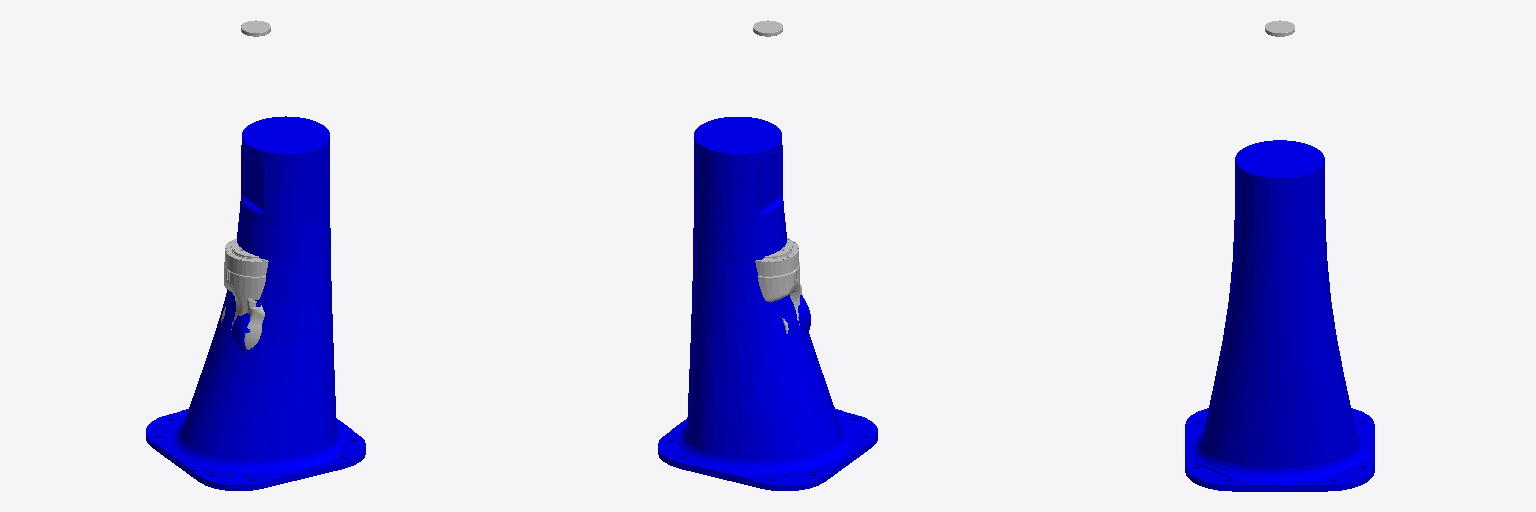
robot.urdf — motoman_sia10f:
<?xml version="1.0" ?>
<!-- =================================================================================== -->
<!-- |    This document was autogenerated by xacro from sia10f.xacro                   | -->
<!-- |    EDITING THIS FILE BY HAND IS NOT RECOMMENDED                                 | -->
<!-- =================================================================================== -->
<robot name="motoman_sia10f" xmlns:xacro="http://ros.org/wiki/xacro">
  <link name="base_link">
    <visual>
      <geometry>
        <mesh filename="package://motoman_sia10f_support/meshes/sia10f/visual/motoman_base.stl"/>
      </geometry>
      <material name="blue">
        <color rgba="0 0 1 1"/>
      </material>
    </visual>
    <collision>
      <geometry>
        <mesh filename="package://motoman_sia10f_support/meshes/sia10f/collision/motoman_base.stl"/>
      </geometry>
      <material name="yellow">
        <color rgba="0 1 1 1"/>
      </material>
    </collision>
  </link>
  <link name="link_s">
    <visual>
      <geometry>
        <mesh filename="package://motoman_sia10f_support/meshes/sia10f/visual/motoman_axis_s.stl"/>
      </geometry>
      <material name="silver">
        <color rgba="0.8 0.8 0.8 1"/>
      </material>
    </visual>
    <collision>
      <geometry>
        <mesh filename="package://motoman_sia10f_support/meshes/sia10f/collision/motoman_axis_s.stl"/>
      </geometry>
      <material name="yellow"/>
    </collision>
  </link>
  <link name="link_l">
    <visual>
      <origin rpy="1.57 3.1416 0" xyz="0 0 0"/>
      <geometry>
        <mesh filename="package://motoman_sia10f_support/meshes/sia10f/visual/motoman_axis_l.stl"/>
      </geometry>
      <material name="blue"/>
    </visual>
    <collision>
      <origin rpy="1.57 3.1416 0" xyz="0 0 0"/>
      <geometry>
        <mesh filename="package://motoman_sia10f_support/meshes/sia10f/collision/motoman_axis_l.stl"/>
      </geometry>
      <material name="yellow"/>
    </collision>
  </link>
  <link name="link_e">
    <visual>
      <origin rpy="0 0 3.1415" xyz="0 0 0"/>
      <geometry>
        <mesh filename="package://motoman_sia10f_support/meshes/sia10f/visual/motoman_axis_e.stl"/>
      </geometry>
      <material name="silver"/>
    </visual>
    <collision>
      <origin rpy="0 0 3.1415" xyz="0 0 0"/>
      <geometry>
        <mesh filename="package://motoman_sia10f_support/meshes/sia10f/collision/motoman_axis_e.stl"/>
      </geometry>
      <material name="yellow"/>
    </collision>
  </link>
  <link name="link_u">
    <visual>
      <origin rpy="1.57 -3.1415 0" xyz="0 0 0"/>
      <geometry>
        <mesh filename="package://motoman_sia10f_support/meshes/sia10f/visual/motoman_axis_u.stl"/>
      </geometry>
      <material name="blue"/>
    </visual>
    <collision>
      <origin rpy="1.57 -3.1415 0" xyz="0 0 0"/>
      <geometry>
        <mesh filename="package://motoman_sia10f_support/meshes/sia10f/collision/motoman_axis_u.stl"/>
      </geometry>
      <material name="yellow"/>
    </collision>
  </link>
  <link name="link_r">
    <visual>
      <origin rpy="0 0 3.1416" xyz="0 0 0"/>
      <geometry>
        <mesh filename="package://motoman_sia10f_support/meshes/sia10f/visual/motoman_axis_r.stl"/>
      </geometry>
      <material name="silver"/>
    </visual>
    <collision>
      <origin rpy="0 0 3.1416" xyz="0 0 0"/>
      <geometry>
        <mesh filename="package://motoman_sia10f_support/meshes/sia10f/collision/motoman_axis_r.stl"/>
      </geometry>
      <material name="yellow"/>
    </collision>
  </link>
  <link name="link_b">
    <visual>
      <origin rpy="-1.57 0 3.1416" xyz="0 0 0"/>
      <geometry>
        <mesh filename="package://motoman_sia10f_support/meshes/sia10f/visual/motoman_axis_b.stl"/>
      </geometry>
      <material name="blue"/>
    </visual>
    <collision>
      <origin rpy="-1.57 0 3.1416" xyz="0 0 0"/>
      <geometry>
        <mesh filename="package://motoman_sia10f_support/meshes/sia10f/collision/motoman_axis_b.stl"/>
      </geometry>
      <material name="yellow"/>
    </collision>
  </link>
  <link name="link_t">
    <visual>
      <geometry>
        <mesh filename="package://motoman_sia10f_support/meshes/sia10f/visual/motoman_axis_t.stl"/>
      </geometry>
      <material name="silver"/>
    </visual>
    <collision>
      <geometry>
        <mesh filename="package://motoman_sia10f_support/meshes/sia10f/collision/motoman_axis_t.stl"/>
      </geometry>
      <material name="yellow"/>
    </collision>
  </link>
  <joint name="joint_s" type="revolute">
    <parent link="base_link"/>
    <child link="link_s"/>
    <origin rpy="0 0 0" xyz="0 0 0.36"/>
    <axis xyz="0 0 1"/>
    <limit effort="100" lower="-3.1415" upper="3.1415" velocity="2.96"/>
  </joint>
  <joint name="joint_l" type="revolute">
    <parent link="link_s"/>
    <child link="link_l"/>
    <origin rpy="0 0 0" xyz="0 0 0"/>
    <axis xyz="0 1 0"/>
    <limit effort="100" lower="-1.91" upper="1.91" velocity="2.96"/>
  </joint>
  <joint name="joint_e" type="revolute">
    <parent link="link_l"/>
    <child link="link_e"/>
    <origin rpy="0 0 0" xyz="0 0 0.36"/>
    <axis xyz="0 0 1"/>
    <limit effort="100" lower="-2.96" upper="2.96" velocity="2.96"/>
  </joint>
  <joint name="joint_u" type="revolute">
    <parent link="link_e"/>
    <child link="link_u"/>
    <origin rpy="0 0 0" xyz="0 0 0"/>
    <axis xyz="0 -1 0"/>
    <limit effort="100" lower="-2.35" upper="2.35" velocity="2.96"/>
  </joint>
  <joint name="joint_r" type="revolute">
    <parent link="link_u"/>
    <child link="link_r"/>
    <origin rpy="0 0 0" xyz="0 0 0.360"/>
    <axis xyz="0 0 -1"/>
    <limit effort="100" lower="-3.1415" upper="3.1415" velocity="3.48"/>
  </joint>
  <joint name="joint_b" type="revolute">
    <parent link="link_r"/>
    <child link="link_b"/>
    <origin rpy="0 0 0" xyz="0 0 0"/>
    <axis xyz="0 -1 0"/>
    <limit effort="100" lower="-1.91" upper="1.91" velocity="3.48"/>
  </joint>
  <joint name="joint_t" type="revolute">
    <parent link="link_b"/>
    <child link="link_t"/>
    <origin rpy="0 0 0" xyz="0 0 0.155"/>
    <axis xyz="0 0 -1"/>
    <limit effort="100" lower="-3.1415" upper="3.1415" velocity="6.97"/>
  </joint>
</robot>

--- Render facts (derived) ---
The picture shows the robot from 3 angles, left to right: view 1: azimuth 30°, elevation 25°; view 2: azimuth 150°, elevation 25°; view 3: azimuth 270°, elevation 25°; orthographic projection.
Model motoman_sia10f with 8 links and 7 joints (7 revolute), rooted at base_link, posed every joint at zero.
Links seen in each view (by area): view 1: base_link, link_s; view 2: base_link, link_s; view 3: base_link.
Boxes of the visible links, box(x1,y1,x2,y2) form: base_link: box(146, 116, 365, 490); link_s: box(221, 238, 268, 349); base_link: box(658, 117, 877, 490); link_s: box(755, 238, 802, 333); base_link: box(1185, 140, 1374, 491).
Size in the robot's own frame: 0.5 by 0.5 by 1.24 metres.
4 mesh visuals loaded from 8 distinct referenced files (4 binary STL); not drawn: 4 (reference not matched to a file when rendering).
